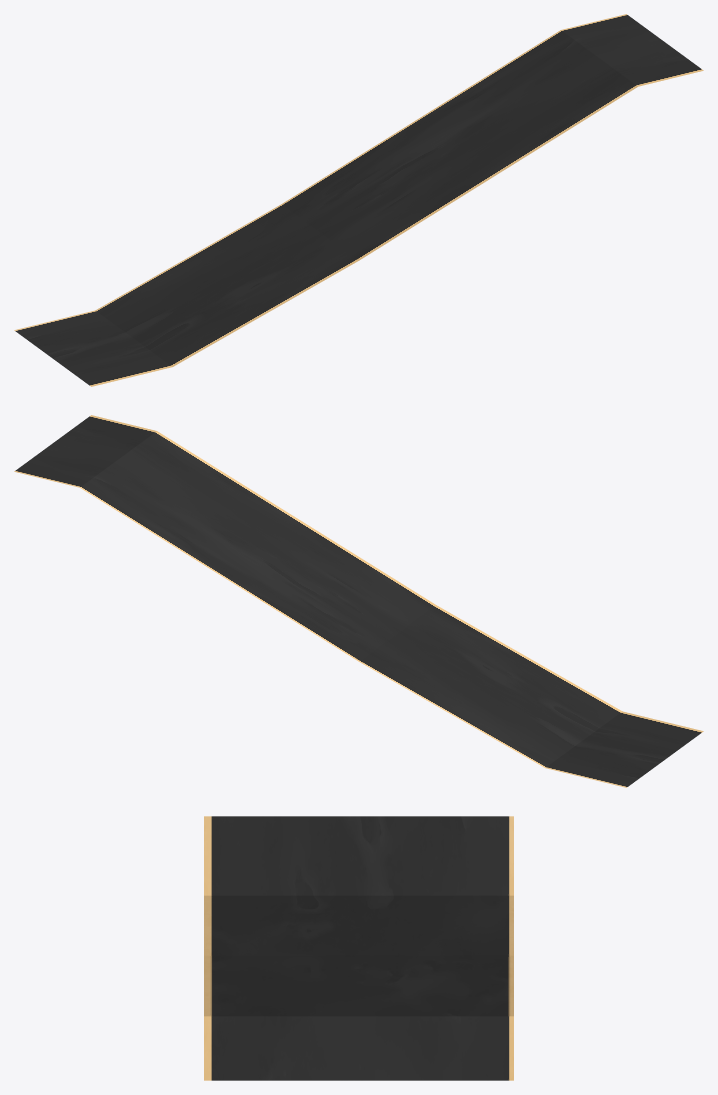
File: HallwayDownFloorLonger.glb
3 renders of one model, top to bottom at view 1: azimuth 30°, elevation 25°; view 2: azimuth 150°, elevation 25°; view 3: azimuth 270°, elevation 25°, orthographic. The views are drawn at different scales.
Visible parts, largest first — view 1: HALLWAYMIDDLE.003; view 2: HALLWAYMIDDLE.003; view 3: HALLWAYMIDDLE.003.
Boxes of the visible parts, x1,y1,x2,y2 form: HALLWAYMIDDLE.003: (14, 14, 703, 386); HALLWAYMIDDLE.003: (14, 415, 703, 787); HALLWAYMIDDLE.003: (204, 816, 513, 1080).
Bounding box in the file's own units: 52.66 × 13.7 × 11.54.
Materials: 1 (1 with a texture image).
